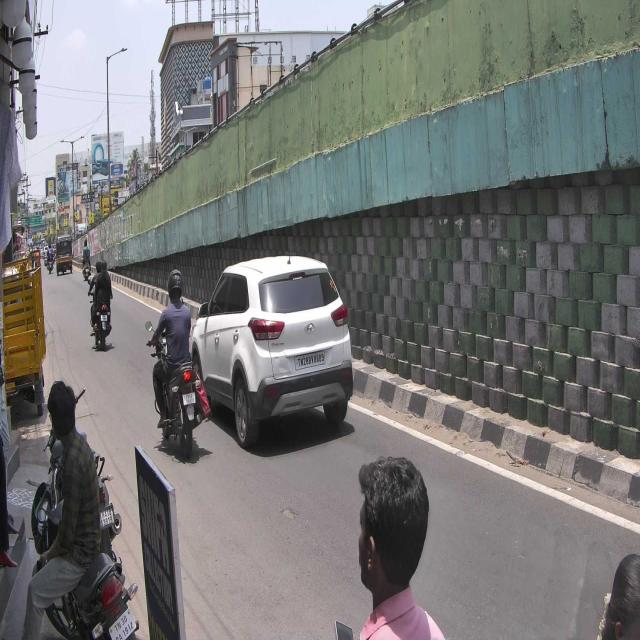single_rider: (144, 269, 211, 456)
